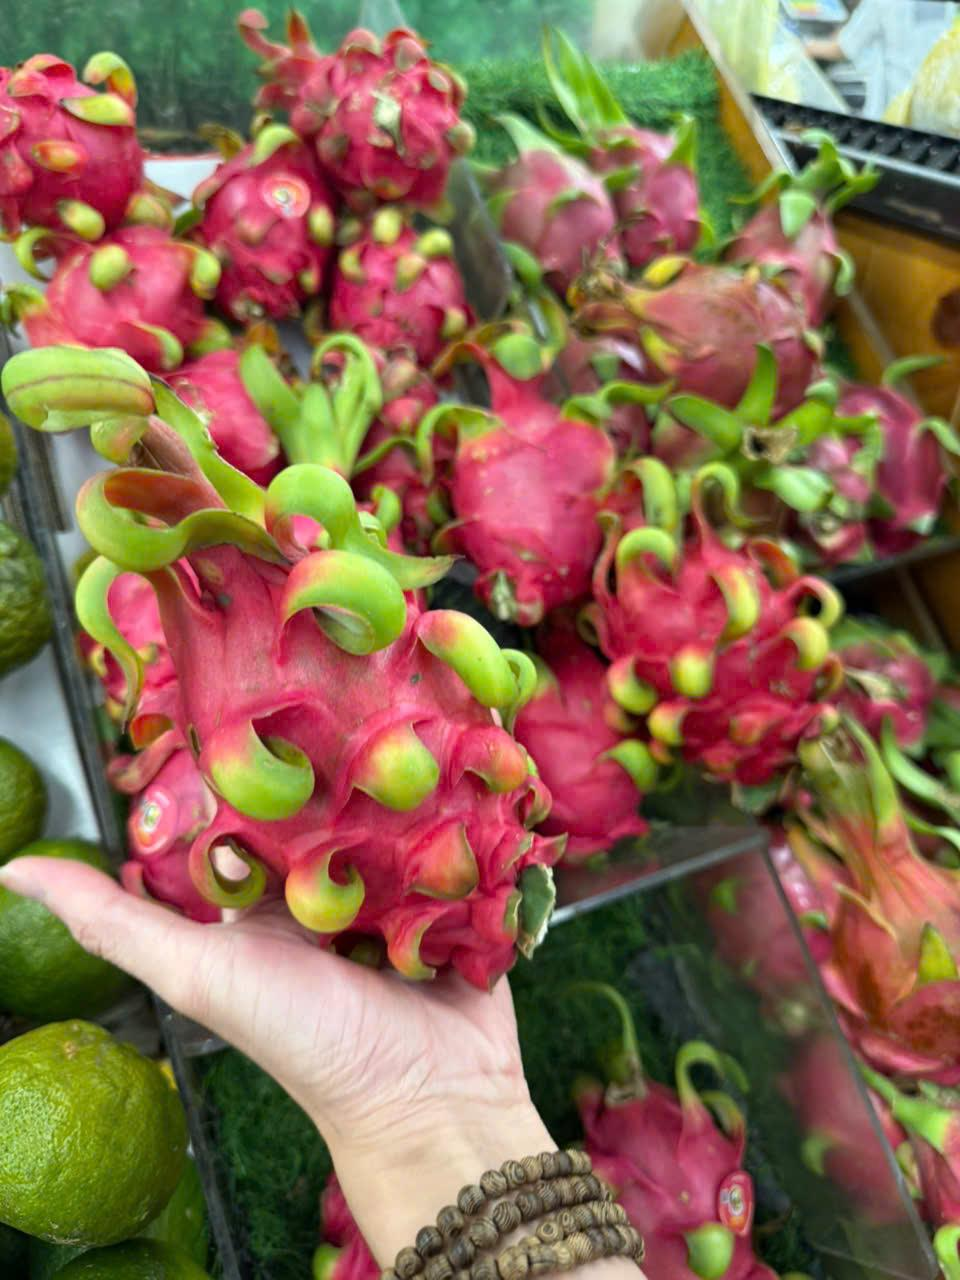dragon fruit: (73, 390, 566, 1000), (573, 473, 826, 772), (555, 996, 814, 1272), (430, 328, 651, 620), (240, 3, 494, 216), (615, 248, 826, 427), (17, 201, 206, 392), (0, 45, 161, 246), (198, 113, 330, 313), (340, 206, 468, 400)
